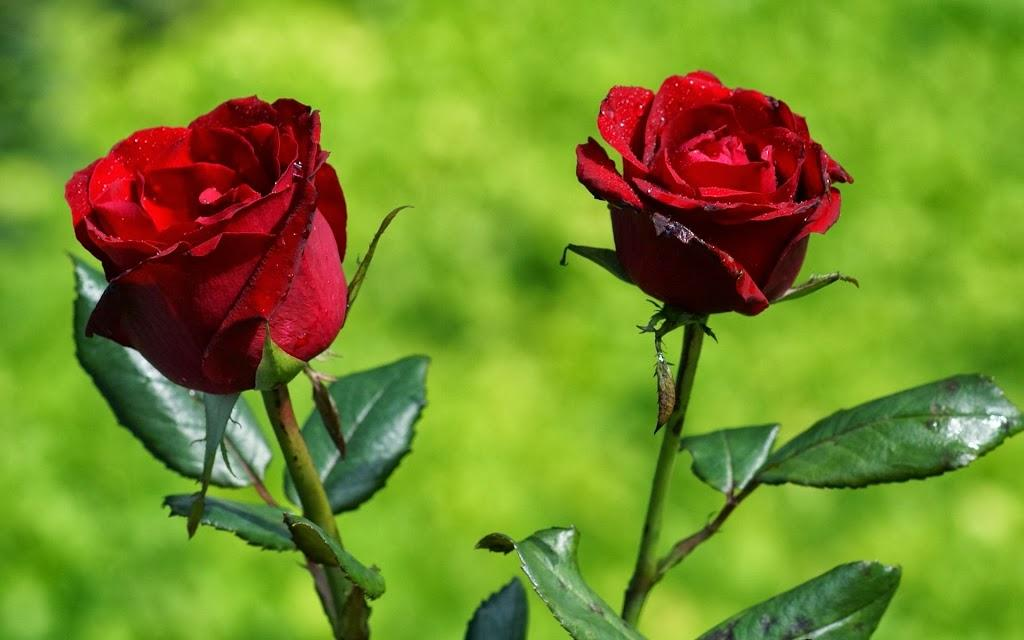Rose: (55, 90, 371, 388), (575, 67, 863, 321)
